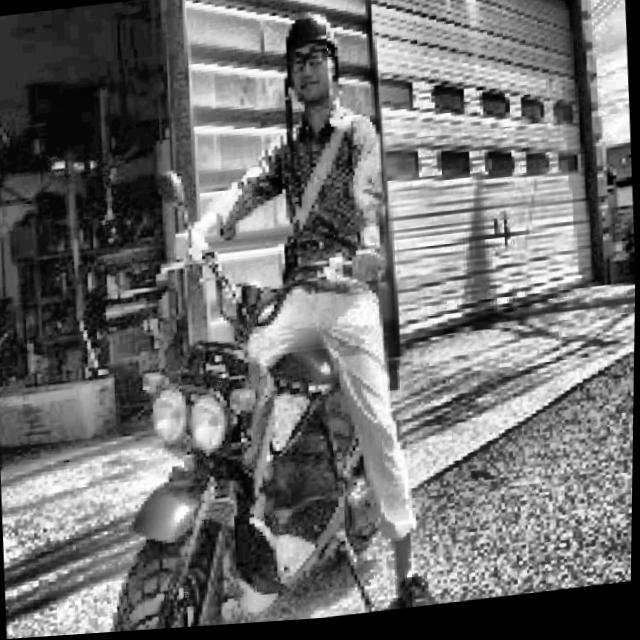motorcycle: (80, 118, 481, 635)
